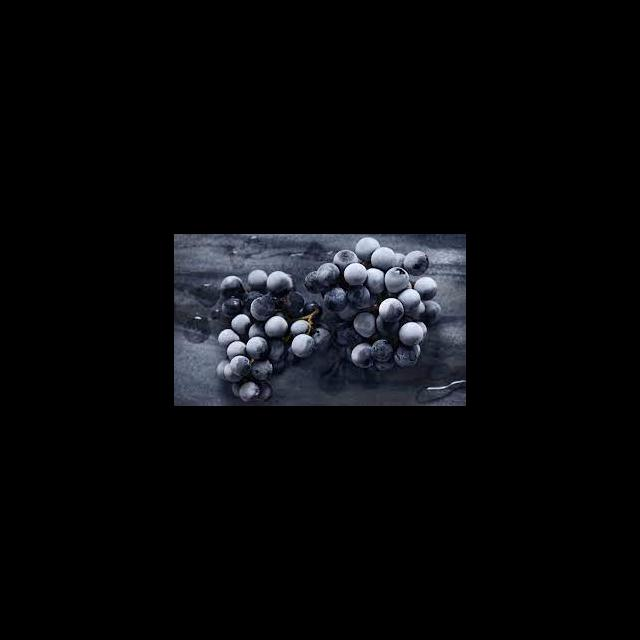grape: (318, 250, 444, 364), (213, 263, 317, 400)
